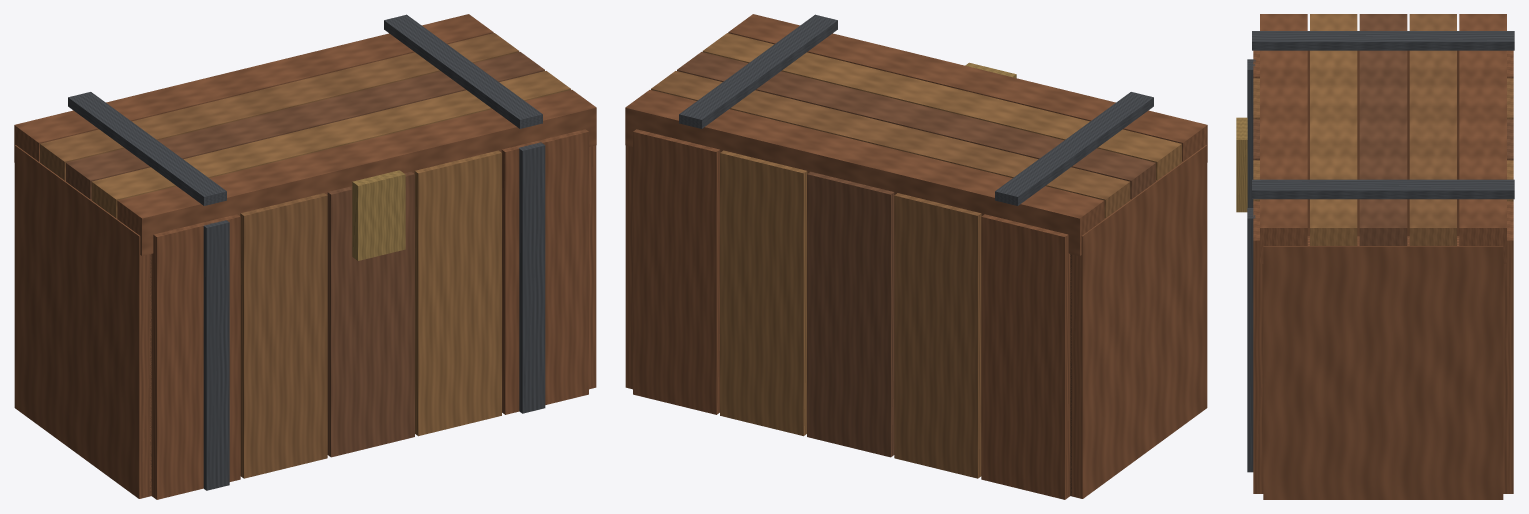
Rendered from chest.glb.
The picture shows the model from 3 angles, left to right: view 1: azimuth 30°, elevation 25°; view 2: azimuth 150°, elevation 25°; view 3: azimuth 270°, elevation 25°; orthographic projection. The views are drawn at different scales.
Visible parts, largest first — view 1: chest; view 2: chest; view 3: chest.
Boxes of the visible parts, <box> form: chest: <box>14,14,596,499</box>; chest: <box>625,14,1207,499</box>; chest: <box>1236,14,1514,499</box>.
Bounding box in the file's own units: 0.95 × 0.58 × 0.52.
1 material, 1 textured.
